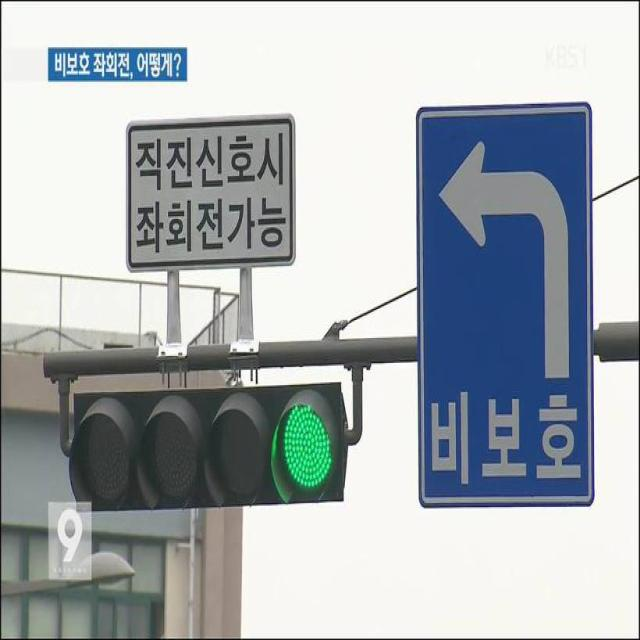Green Light: (272, 387, 342, 503)
